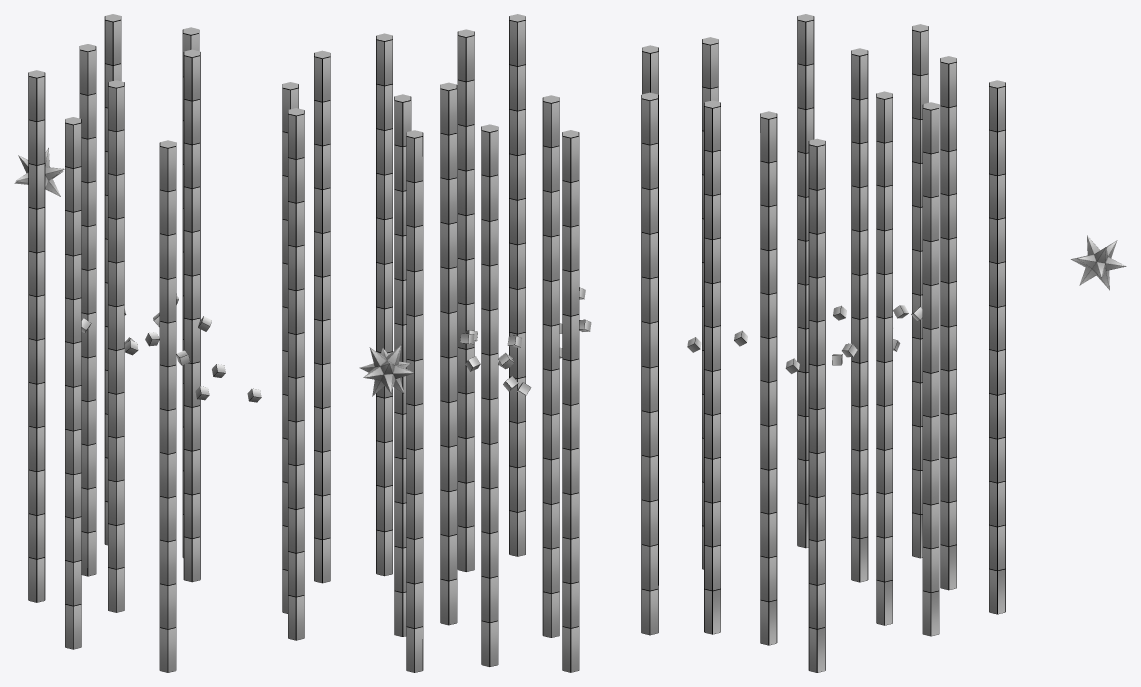
The model's file is Haikei.obj.
3 views of the same model, side by side, from view 1: azimuth 30°, elevation 25°; view 2: azimuth 150°, elevation 25°; view 3: azimuth 270°, elevation 25° (orthographic).
Visible parts, largest first — view 1: Haikei_MDL; view 2: Haikei_MDL; view 3: Haikei_MDL.
Part boxes in pixels (bbox=[...]): Haikei_MDL: bbox=[14, 14, 330, 672]; Haikei_MDL: bbox=[359, 14, 658, 672]; Haikei_MDL: bbox=[687, 14, 1126, 672].
Bounding box in the file's own units: 97.25 × 180 × 136.
1 material, 1 textured.
